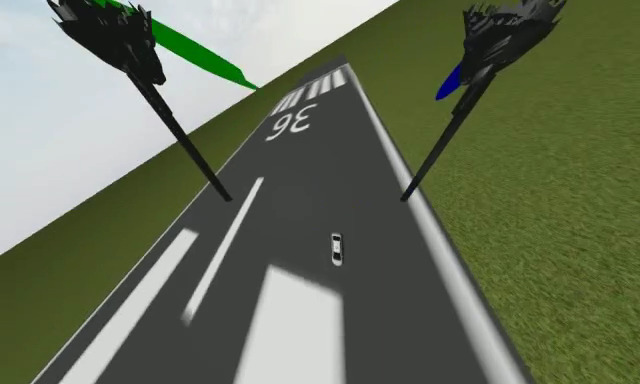Car: (328, 231, 346, 268)
